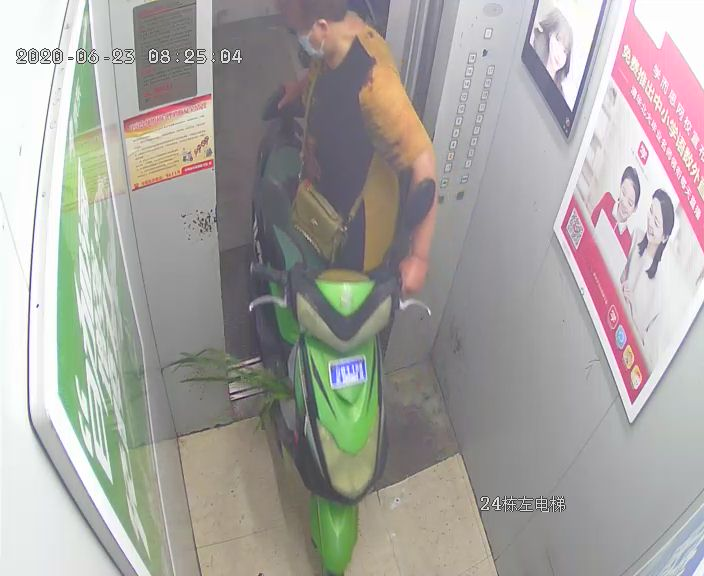Electric-bicycle: (253, 89, 405, 576)
